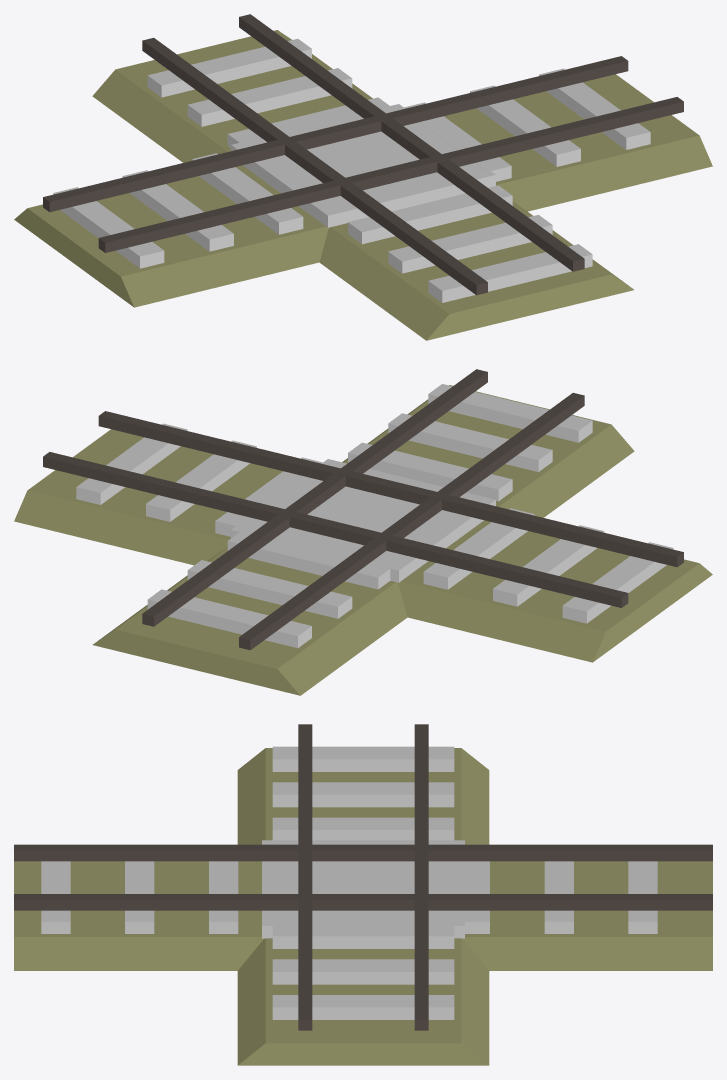
The model's file is SM_Via_Cruce_v0_Hormigon_LOD1.fbx.
3 renders of one model, top to bottom at view 1: azimuth 30°, elevation 25°; view 2: azimuth 150°, elevation 25°; view 3: azimuth 270°, elevation 25°, orthographic. The views are drawn at different scales.
Visible parts, largest first — view 1: SM_via_trazado_v40_LOD1; view 2: SM_via_trazado_v40_LOD1; view 3: SM_via_trazado_v40_LOD1.
Part boxes in pixels (x1,y1,x2,y2): SM_via_trazado_v40_LOD1: (14,14,712,340); SM_via_trazado_v40_LOD1: (14,369,712,695); SM_via_trazado_v40_LOD1: (14,724,712,1065).
Size of the model in its own units: 10 by 0.722 by 10.
